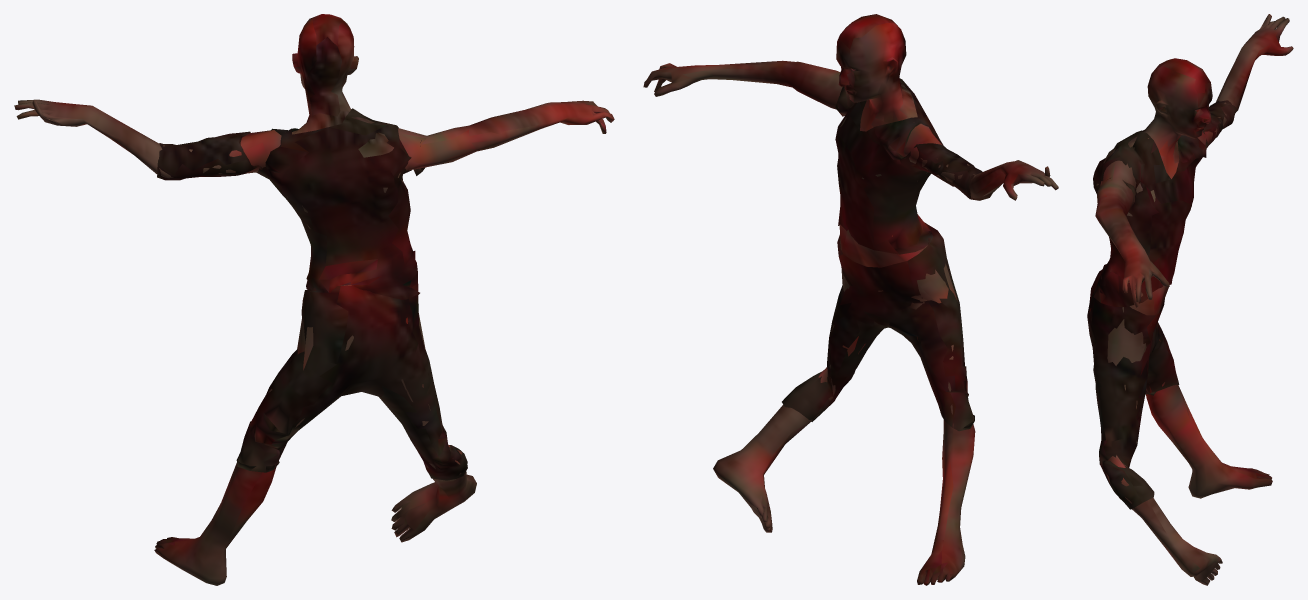
Rendered from zombie_death.glb.
3 views of the same model, side by side, from view 1: azimuth 30°, elevation 25°; view 2: azimuth 150°, elevation 25°; view 3: azimuth 270°, elevation 25° (orthographic). The views are drawn at different scales.
Parts seen in each view (by area): view 1: CityDeadOutfit:Mesh1_pose; view 2: CityDeadOutfit:Mesh1_pose; view 3: CityDeadOutfit:Mesh1_pose.
Part boxes in pixels (box(x1,y1,x2,y2)): CityDeadOutfit:Mesh1_pose: box(14, 14, 614, 585); CityDeadOutfit:Mesh1_pose: box(643, 14, 1058, 585); CityDeadOutfit:Mesh1_pose: box(1087, 14, 1293, 585).
Bounding box in the file's own units: 1.7 × 1.75 × 0.677.
Materials: 3 (2 with a texture image).
